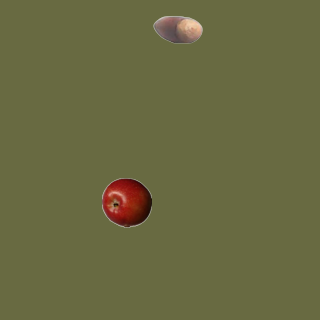Apple Braeburn: (101, 177, 151, 227)
Hazelnut: (152, 4, 202, 54)
